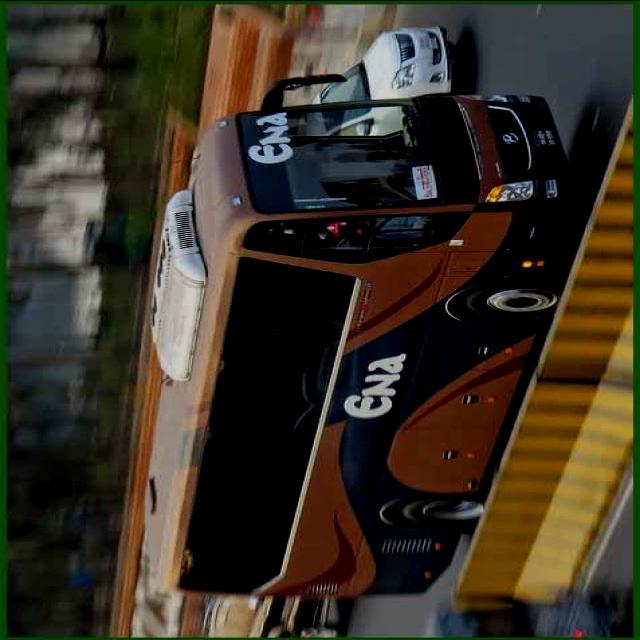bus: (144, 74, 577, 598)
